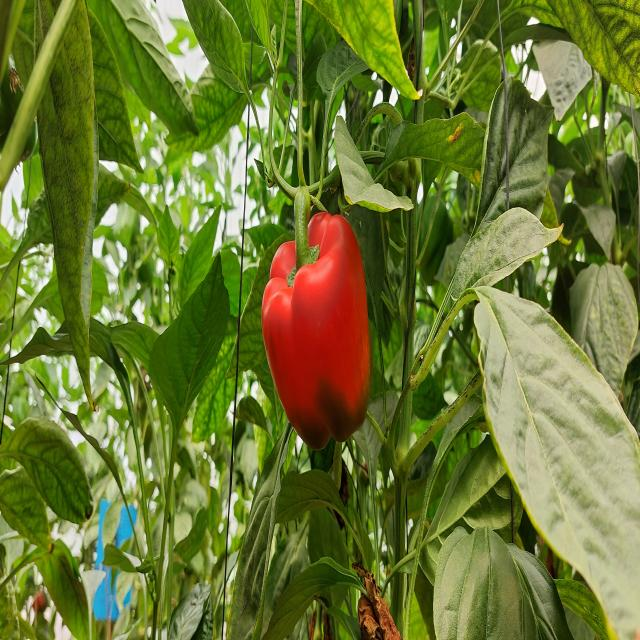Red-Ready-to-Harvest: (255, 218, 381, 455)
